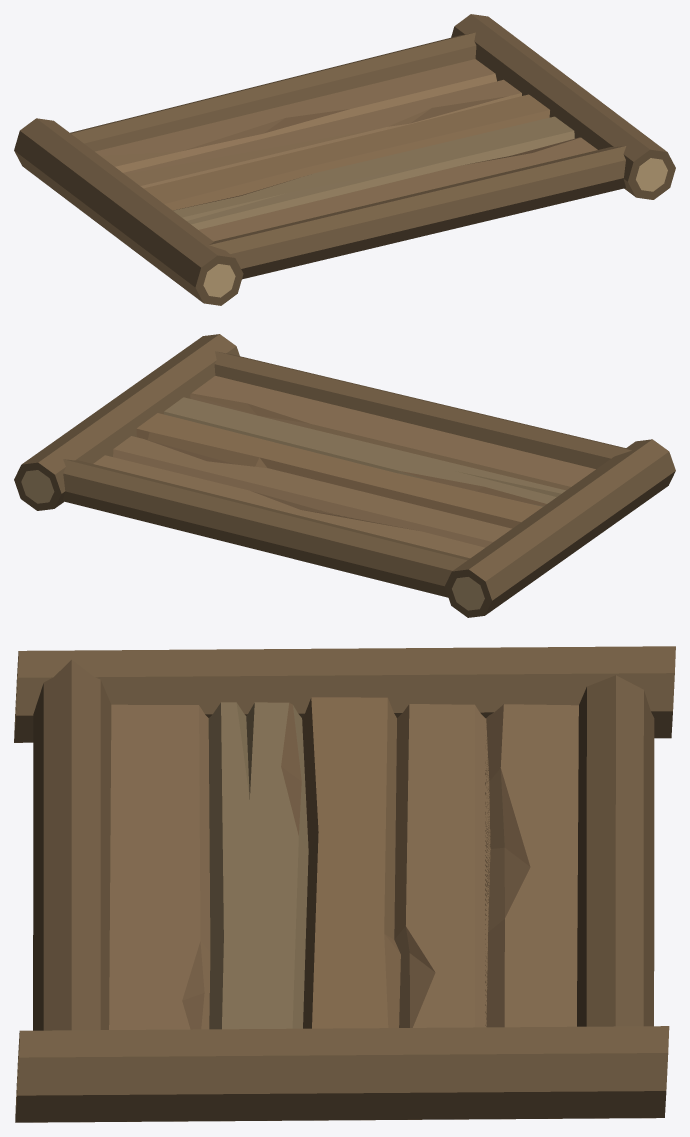
The model's file is rpgpp_ag_wall_platform_02a.fbx.
3 renders of one model, top to bottom at view 1: azimuth 30°, elevation 25°; view 2: azimuth 150°, elevation 25°; view 3: azimuth 270°, elevation 25°, orthographic. The views are drawn at different scales.
Parts seen in each view (by area): view 1: rpgpp_ag_wall_platform_02a; view 2: rpgpp_ag_wall_platform_02a; view 3: rpgpp_ag_wall_platform_02a.
Part boxes in pixels (bbox=[...]): rpgpp_ag_wall_platform_02a: bbox=[14, 14, 675, 305]; rpgpp_ag_wall_platform_02a: bbox=[14, 334, 675, 617]; rpgpp_ag_wall_platform_02a: bbox=[14, 646, 675, 1122].
Bounding box in the file's own units: 4.01 × 0.4233 × 2.65.
